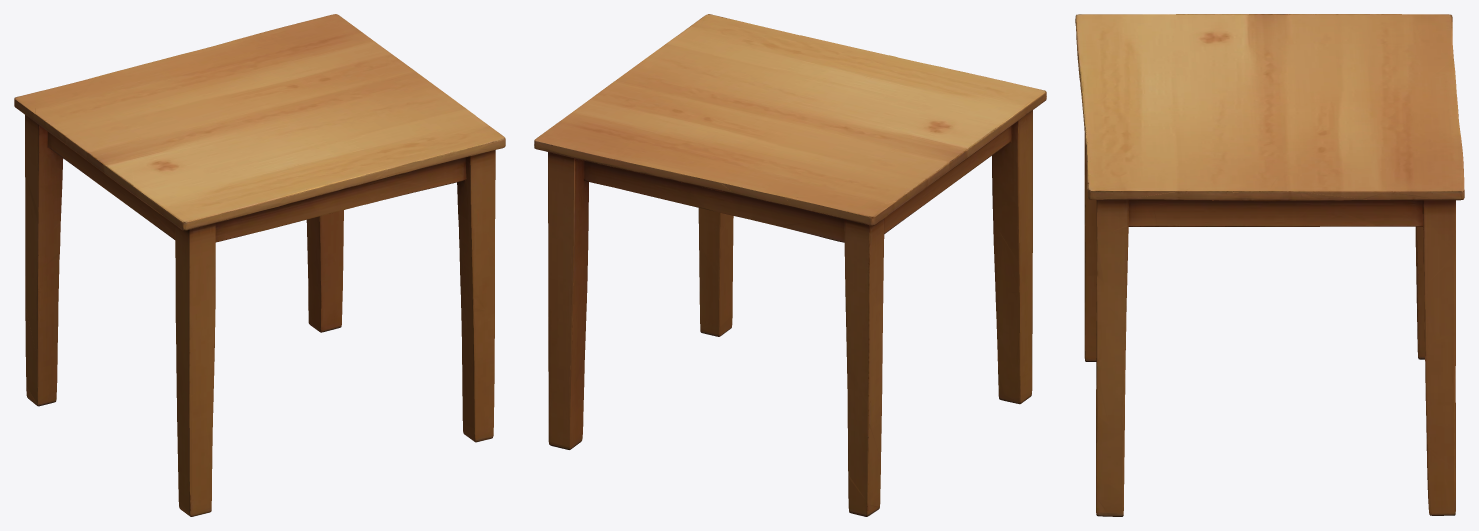
The model's file is table.glb.
3 views of the same model, side by side, from view 1: azimuth 30°, elevation 25°; view 2: azimuth 150°, elevation 25°; view 3: azimuth 270°, elevation 25° (orthographic). The views are drawn at different scales.
Visible parts, largest first — view 1: geometry_0; view 2: geometry_0; view 3: geometry_0.
Part boxes in pixels (bbox=[...]): geometry_0: bbox=[14, 14, 505, 516]; geometry_0: bbox=[534, 14, 1046, 516]; geometry_0: bbox=[1075, 14, 1464, 516].
Size of the model in its own units: 0.9993 by 0.871 by 0.9256.
Materials: 1 (1 with a texture image).
